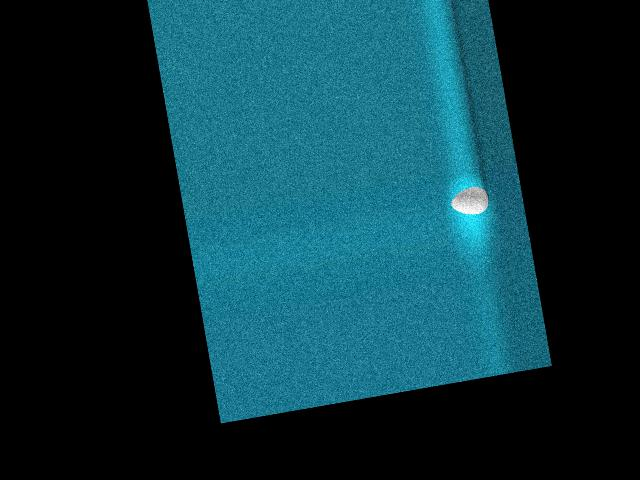egg: (449, 184, 491, 217)
